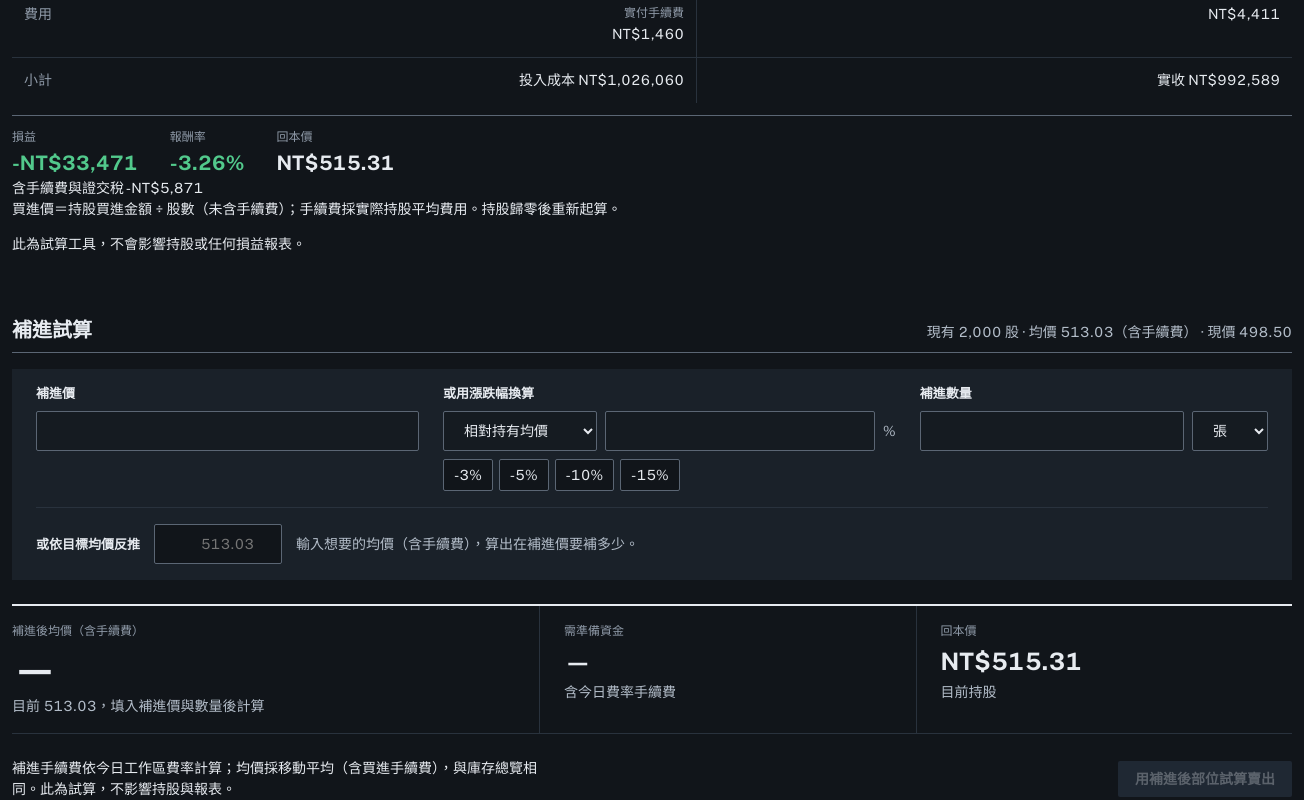
WhatIfTab 賣出試算＋補進試算（Task 197） › 預設以持有均價換算：513.03 跌 5%
(page scrolled)
Click the button "-5%".
click(524, 475)  # box 499,459 -> 549,491
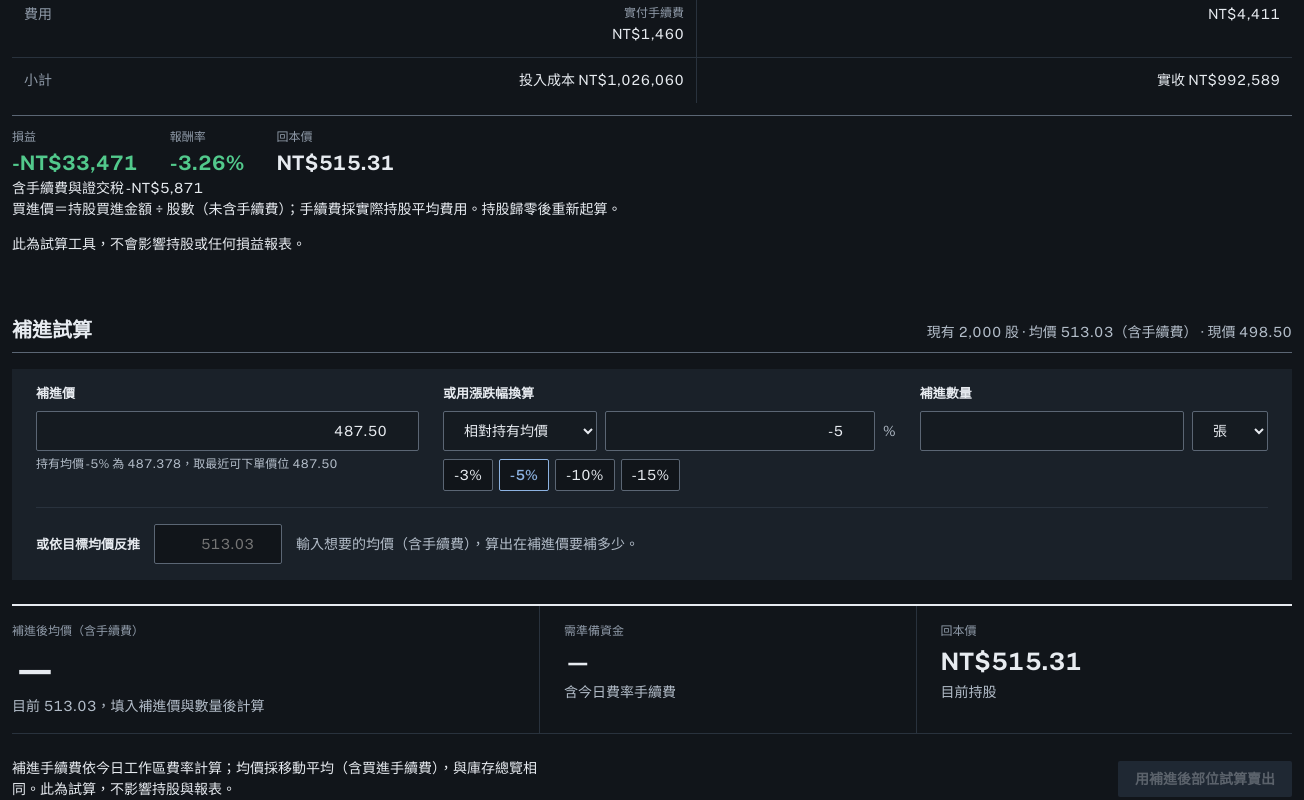
Expected: the number field labelled "補進價" holds "487.50", 36,411 -> 419,451
